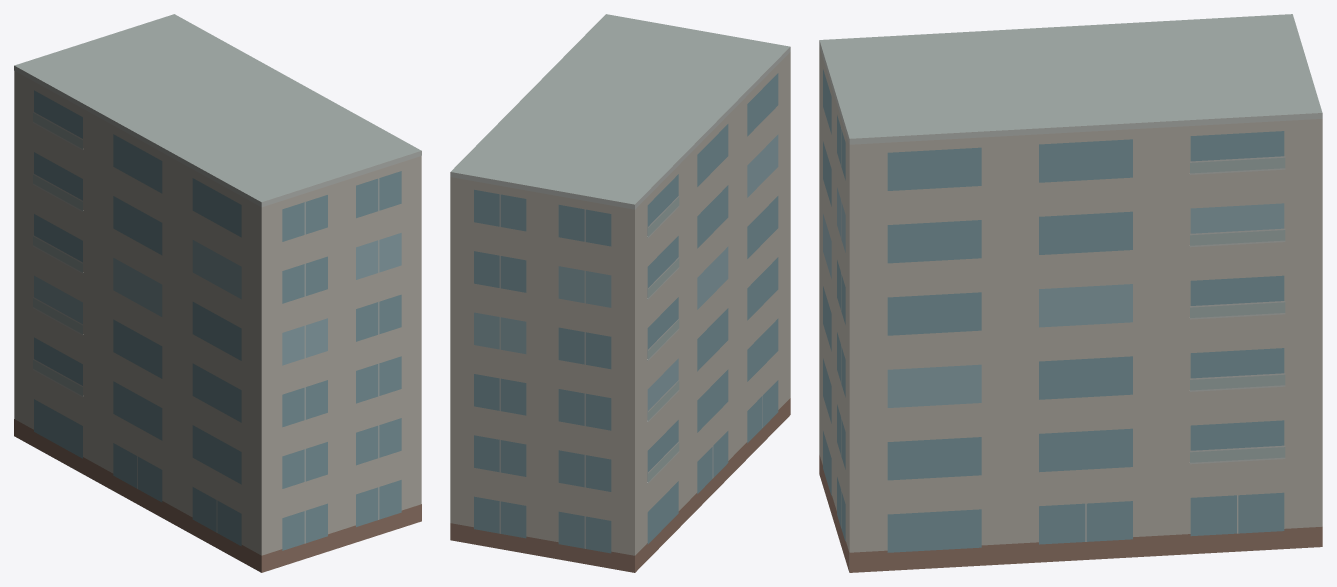
The model's file is survey-upis-32533127.glb.
3 views of the same model, side by side, from view 1: azimuth 30°, elevation 25°; view 2: azimuth 150°, elevation 25°; view 3: azimuth 270°, elevation 25° (orthographic). The views are drawn at different scales.
Visible parts, largest first — view 1: survey-upis-32533127.tmp; view 2: survey-upis-32533127.tmp; view 3: survey-upis-32533127.tmp.
Part boxes in pixels (x1,y1,x2,y2): survey-upis-32533127.tmp: (14, 14, 421, 572); survey-upis-32533127.tmp: (450, 14, 790, 572); survey-upis-32533127.tmp: (819, 14, 1322, 572).
Size of the model in its own units: 10.99 by 17.8 by 18.71.
